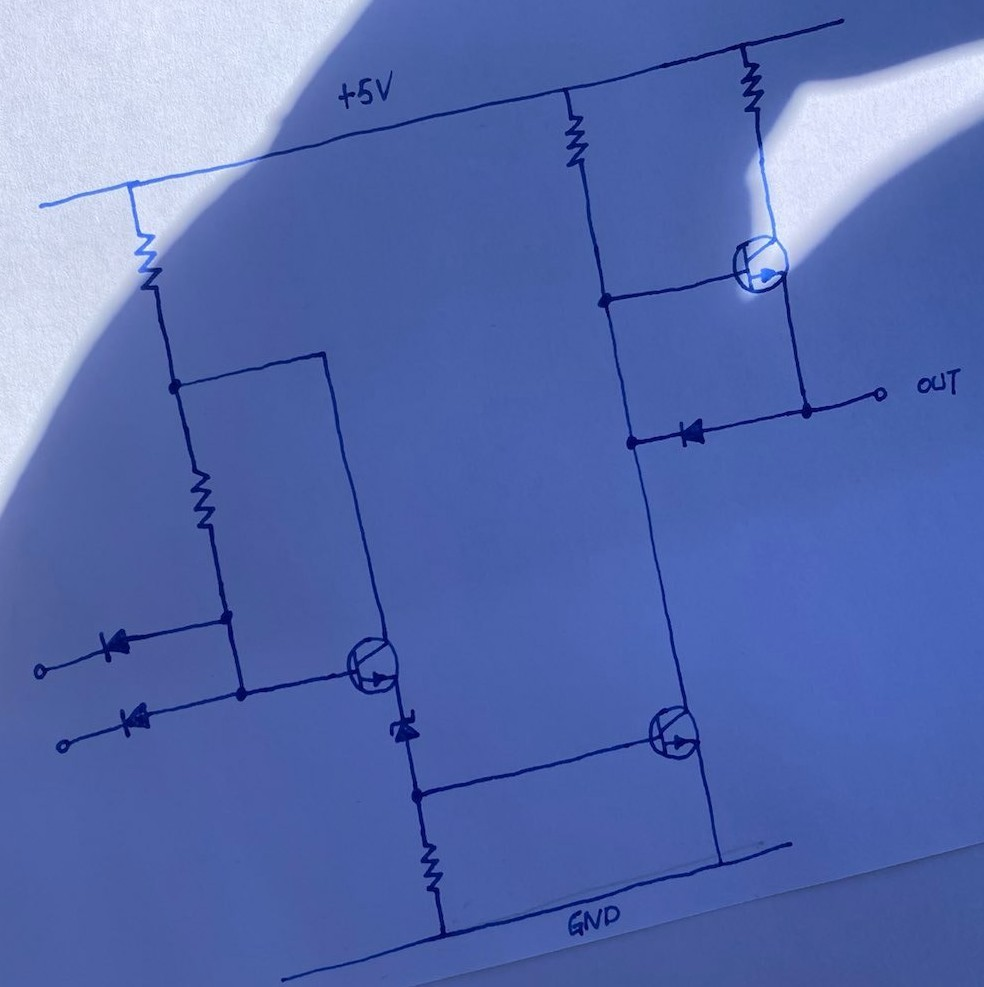diode: (94, 625, 138, 667), (114, 701, 155, 743), (670, 414, 716, 451), (387, 707, 423, 745)
junction: (223, 679, 260, 710), (790, 394, 822, 428), (403, 780, 431, 812), (306, 339, 334, 369), (210, 604, 242, 630), (161, 371, 189, 400), (619, 427, 647, 455), (705, 848, 734, 875), (592, 285, 618, 312), (430, 921, 459, 945), (555, 75, 579, 101), (730, 32, 756, 52), (119, 172, 140, 196)
resistor: (187, 465, 220, 534), (133, 229, 165, 297), (563, 110, 595, 170), (417, 839, 446, 898), (739, 57, 767, 118)
terminal: (24, 183, 78, 218), (19, 649, 57, 686), (41, 729, 82, 763), (856, 378, 897, 410), (806, 12, 865, 33), (273, 962, 323, 986), (762, 829, 806, 856)
text: (329, 69, 398, 112), (559, 907, 633, 939), (908, 361, 967, 398)
transistor: (730, 233, 797, 297), (646, 702, 708, 765), (343, 635, 404, 696)
